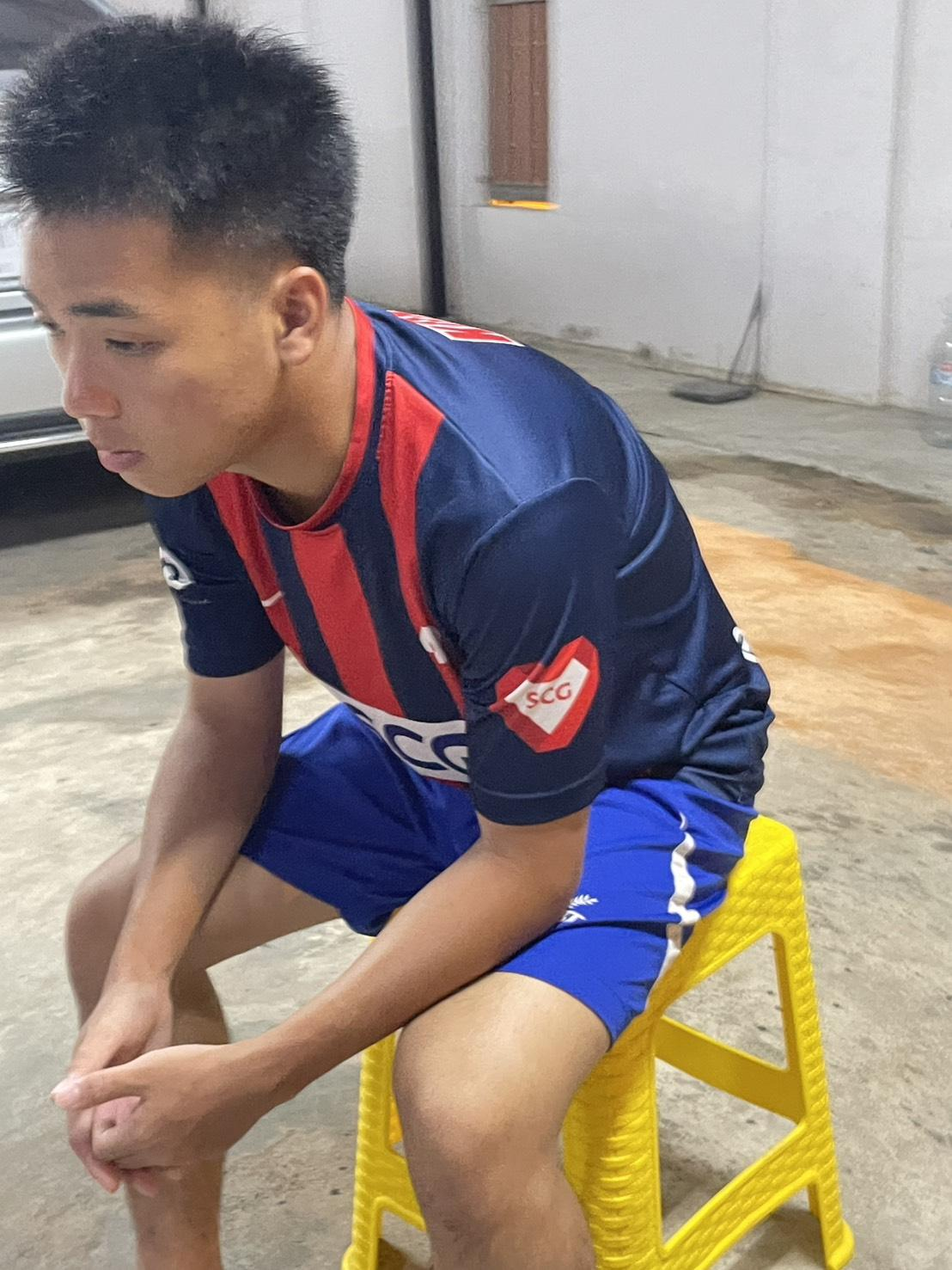BadPosture: (0, 20, 771, 842)
